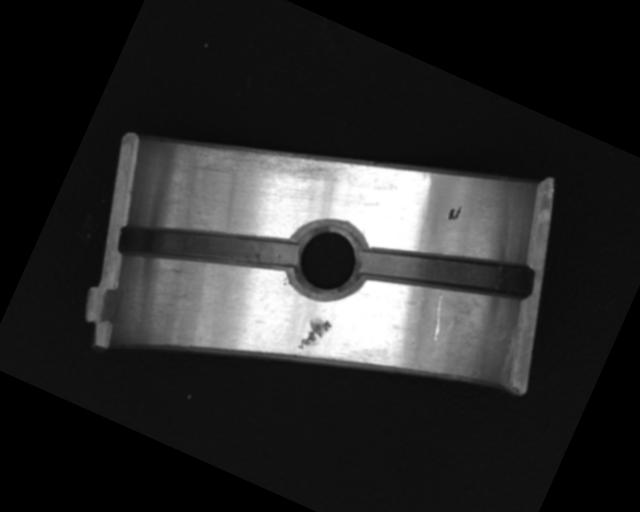blot: (445, 202, 464, 224)
bruise: (294, 312, 333, 358)
gap: (115, 178, 301, 318), (357, 206, 537, 338)
hole: (278, 208, 376, 310)
nick: (421, 292, 457, 343)
scratch: (182, 100, 350, 227)
